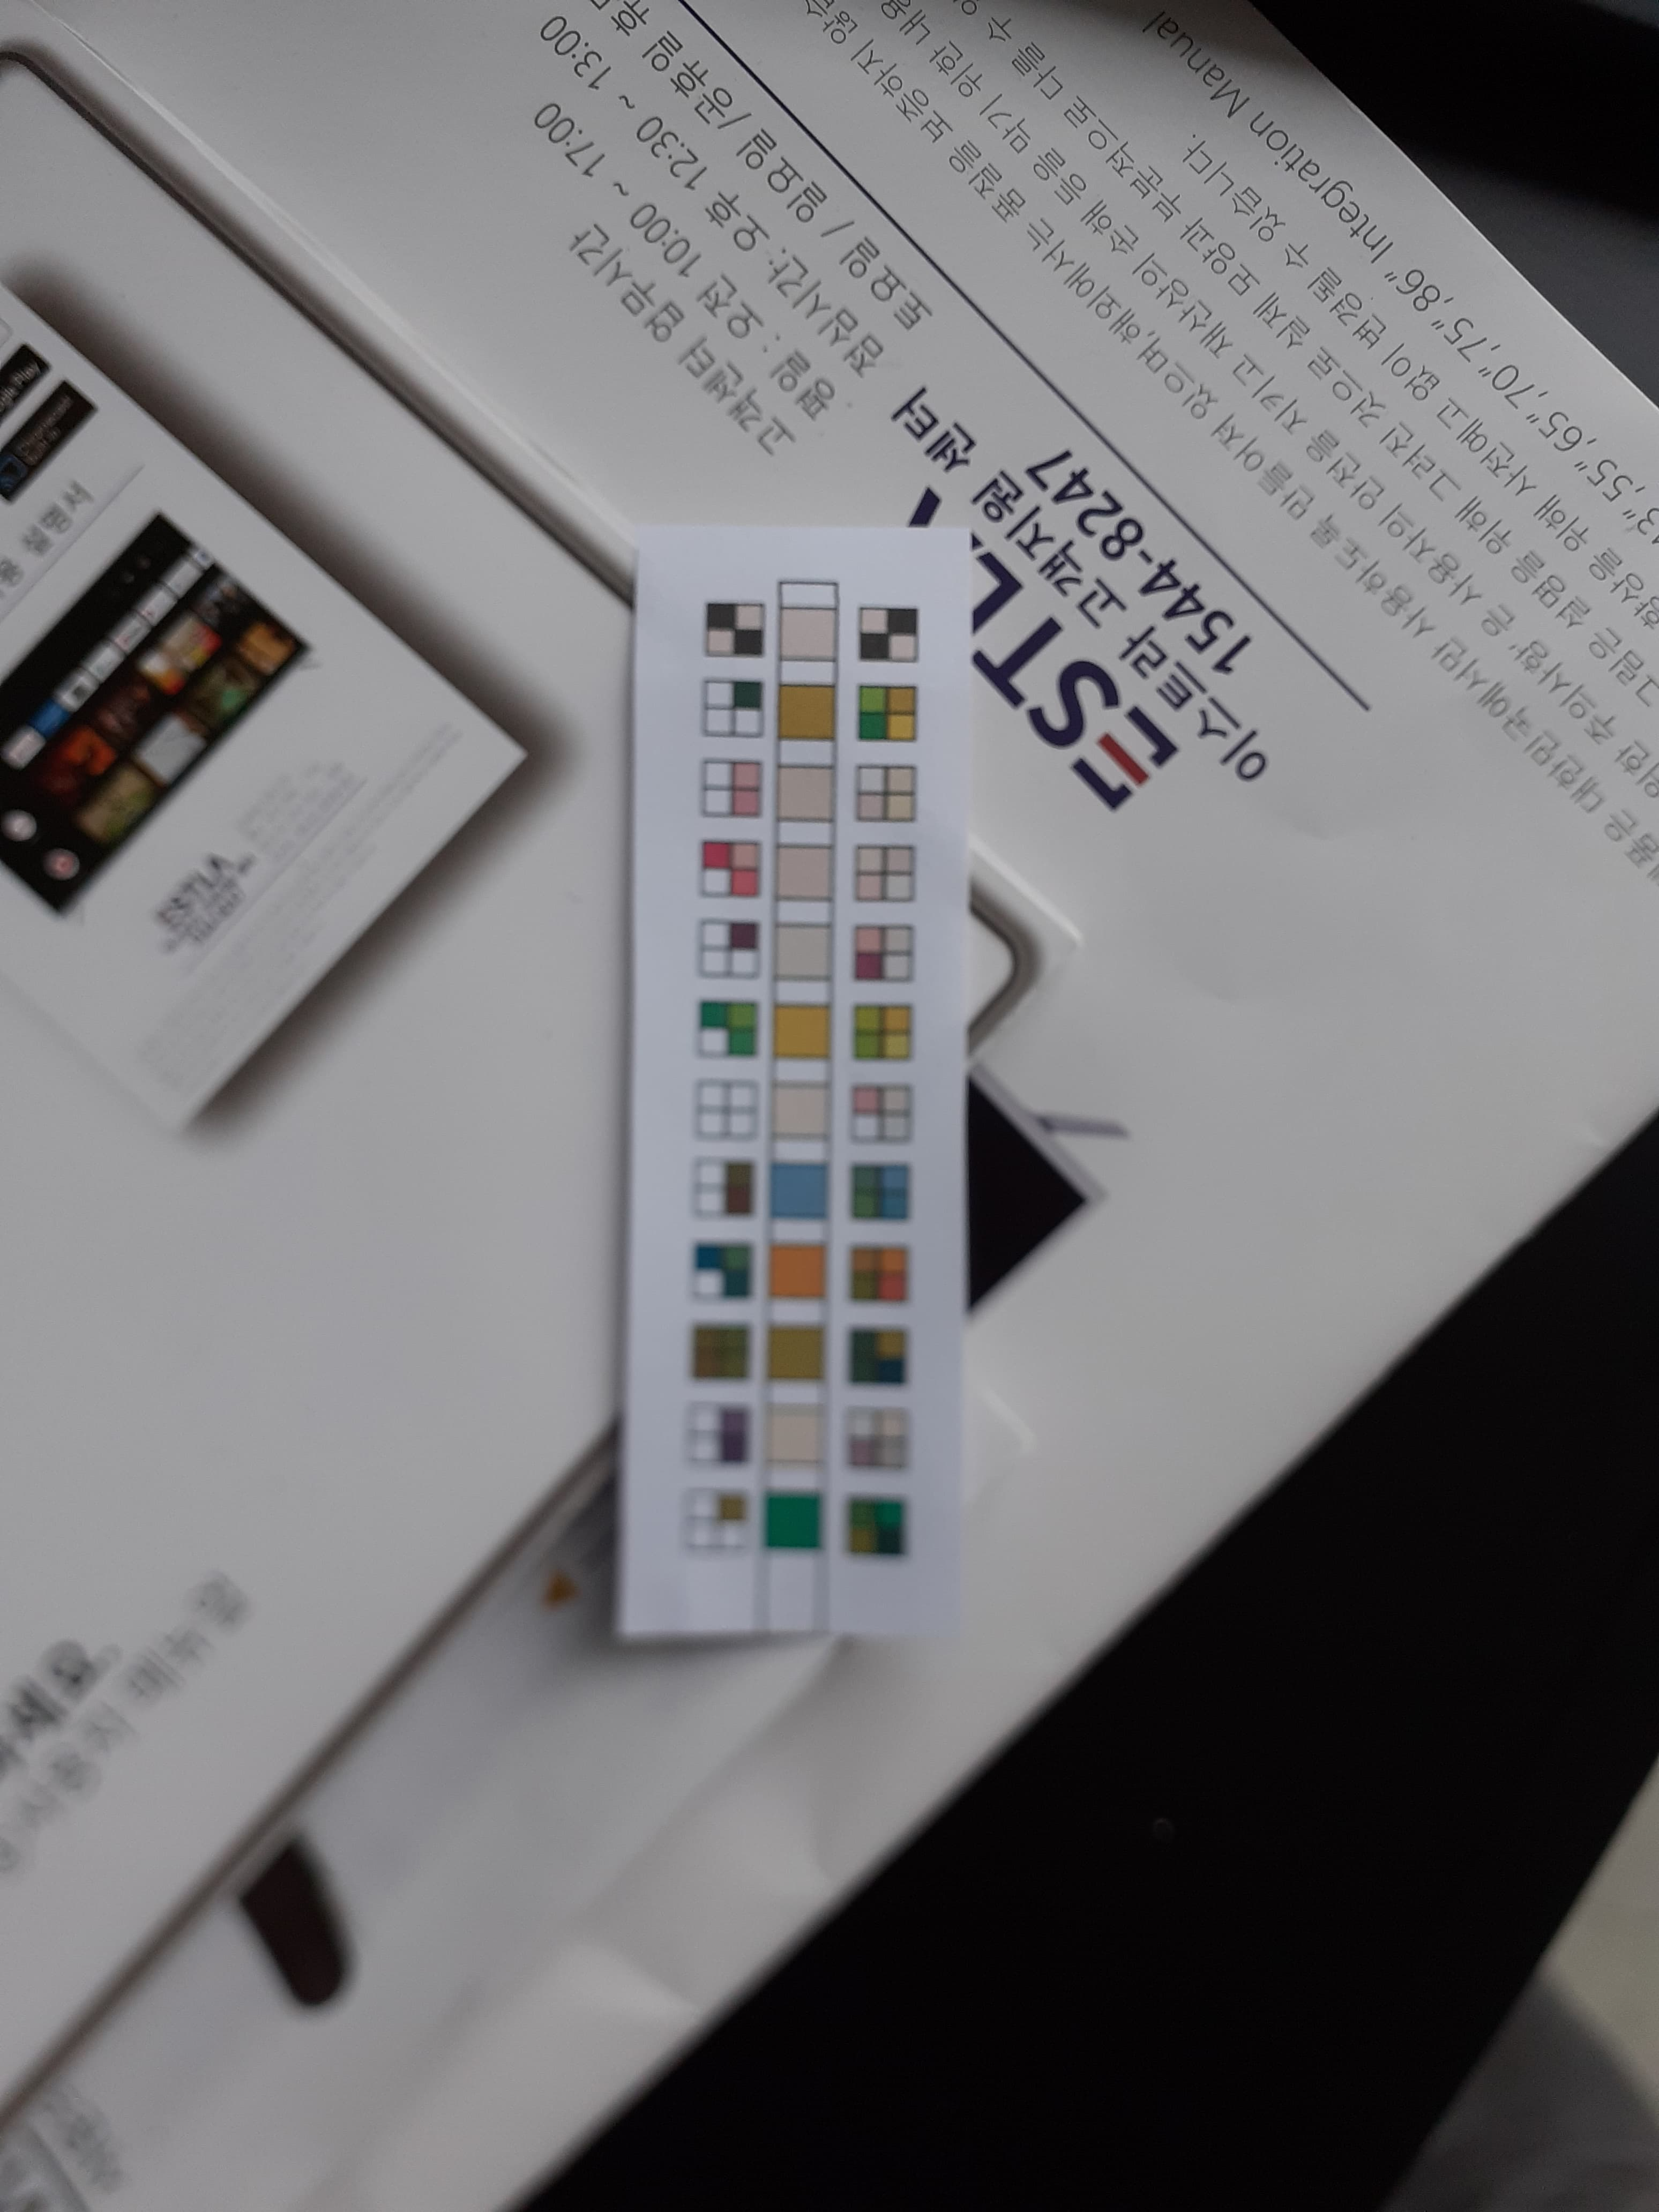tester: (634, 519, 957, 1644)
